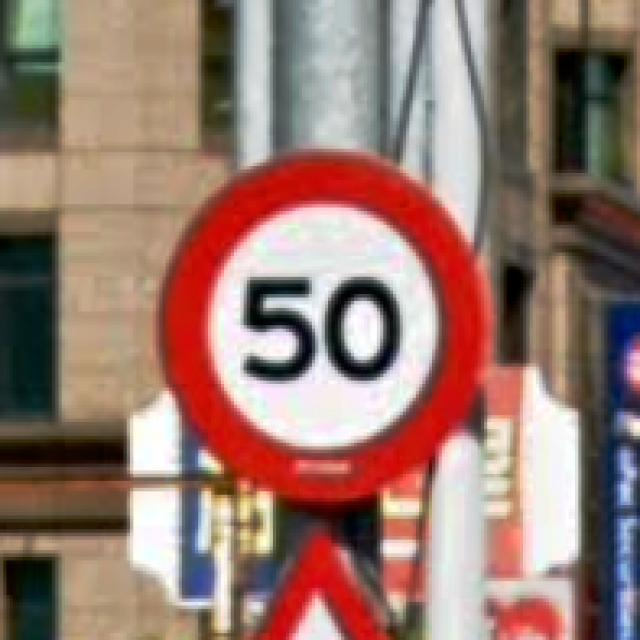max50: (152, 142, 493, 508)
